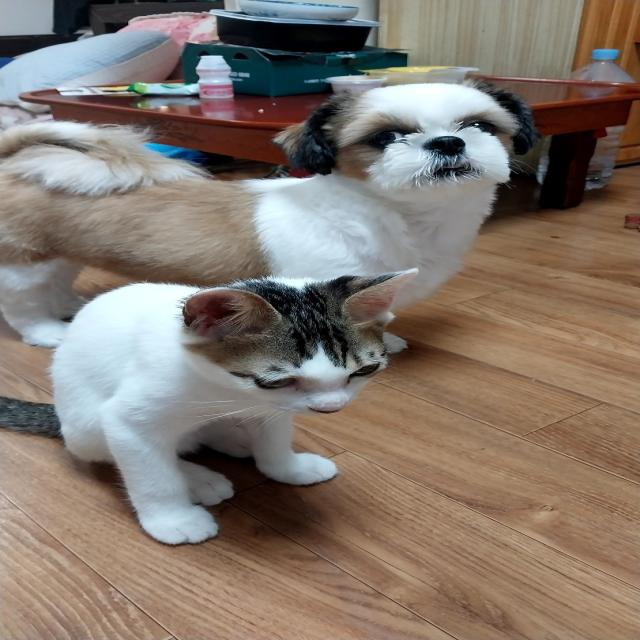cat: (0, 265, 414, 544)
dog: (0, 82, 559, 281)
